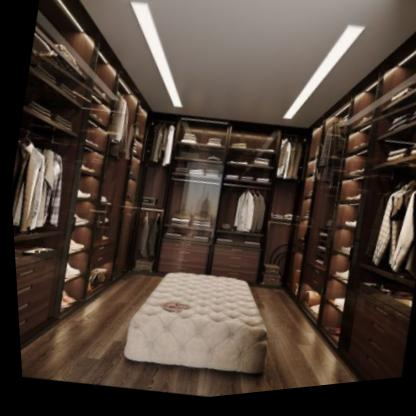Transparent Closet: (278, 43, 416, 388), (9, 0, 143, 347), (119, 112, 305, 293)
Wooden floor: (16, 278, 354, 401)
